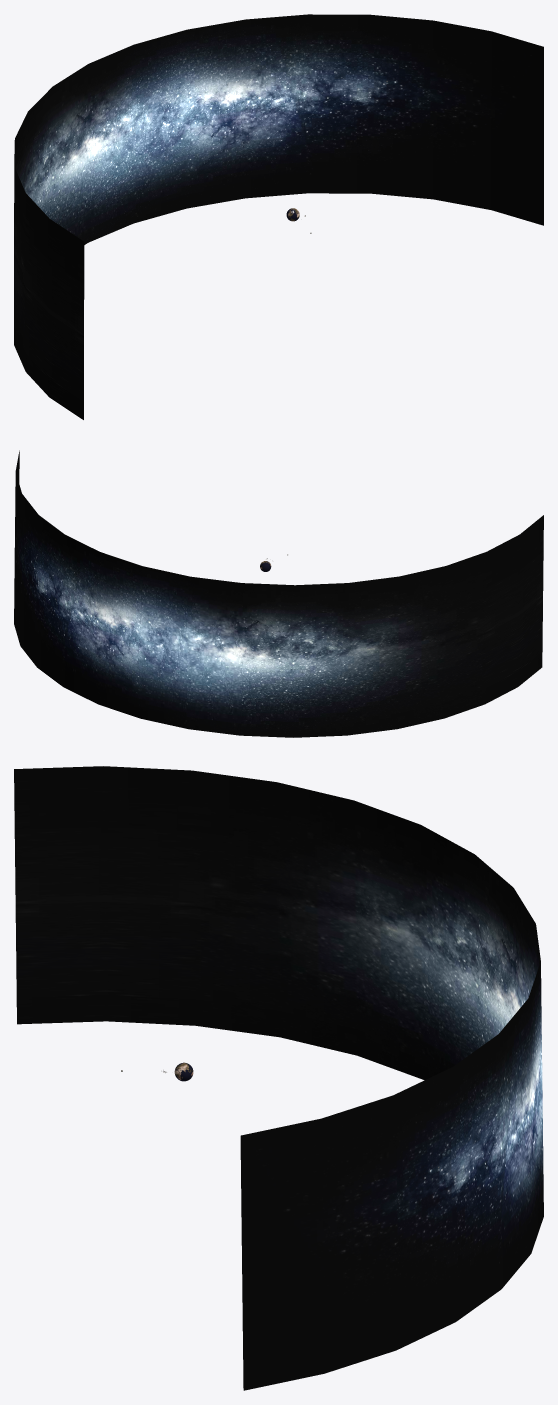
Rendered from earth-transformed.glb.
3 renders of one model, top to bottom at view 1: azimuth 30°, elevation 25°; view 2: azimuth 150°, elevation 25°; view 3: azimuth 270°, elevation 25°, orthographic. The views are drawn at different scales.
Parts seen in each view (by area): view 1: milky-way; view 2: milky-way; view 3: milky-way.
Part boxes in pixels (bbox=[...]): milky-way: bbox=[14, 14, 543, 419]; milky-way: bbox=[14, 450, 543, 737]; milky-way: bbox=[14, 766, 543, 1390].
Size of the model in its own units: 3610 by 1176 by 2153.
7 materials, 5 textured.
